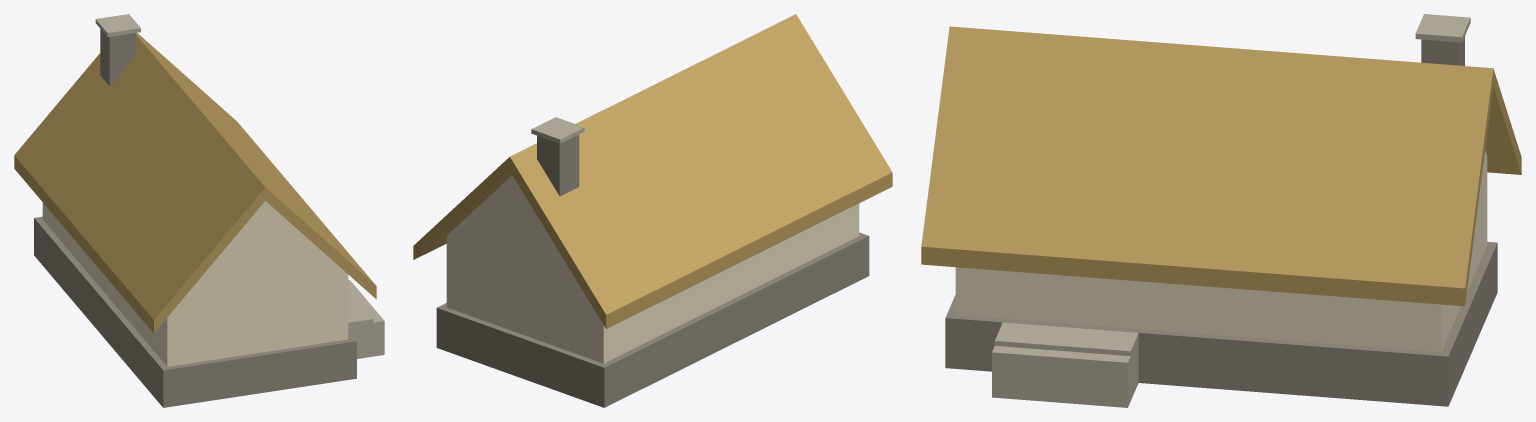
The model's file is SM_WillowPond_House5.fbx.
3 views of the same model, side by side, from view 1: azimuth 30°, elevation 25°; view 2: azimuth 150°, elevation 25°; view 3: azimuth 270°, elevation 25° (orthographic). The views are drawn at different scales.
Parts seen in each view (by area): view 1: SM_WillowPond_House5; view 2: SM_WillowPond_House5; view 3: SM_WillowPond_House5.
Part boxes in pixels (left/top/right/bottom): SM_WillowPond_House5: left=14, top=14, right=384, bottom=407; SM_WillowPond_House5: left=413, top=14, right=892, bottom=407; SM_WillowPond_House5: left=921, top=14, right=1521, bottom=407.
Size of the model in its own units: 8.3 by 6.9 by 12.16.
